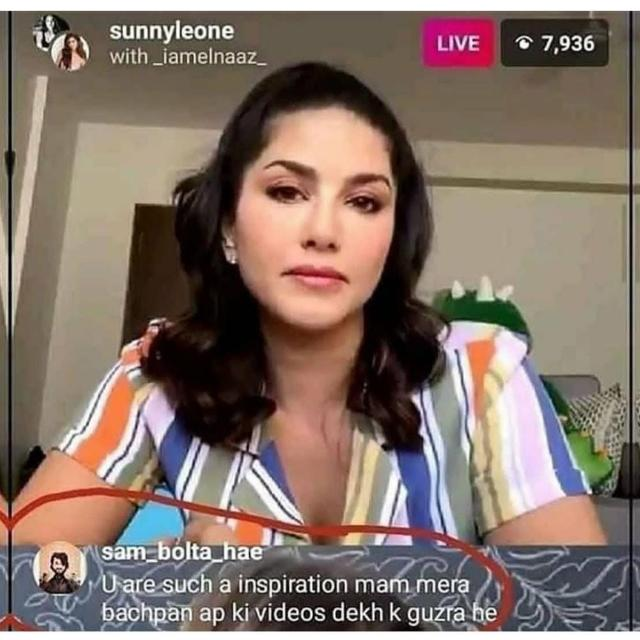person: (96, 53, 524, 581)
